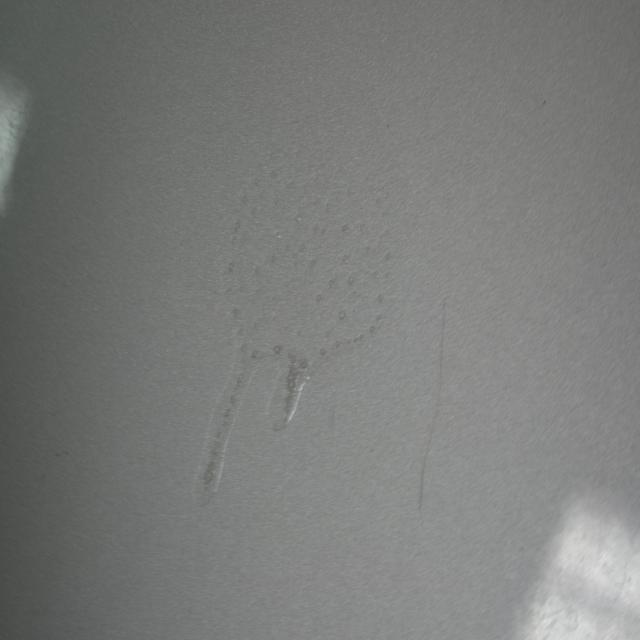runs: (196, 150, 399, 503)
scratch: (410, 295, 450, 523)
